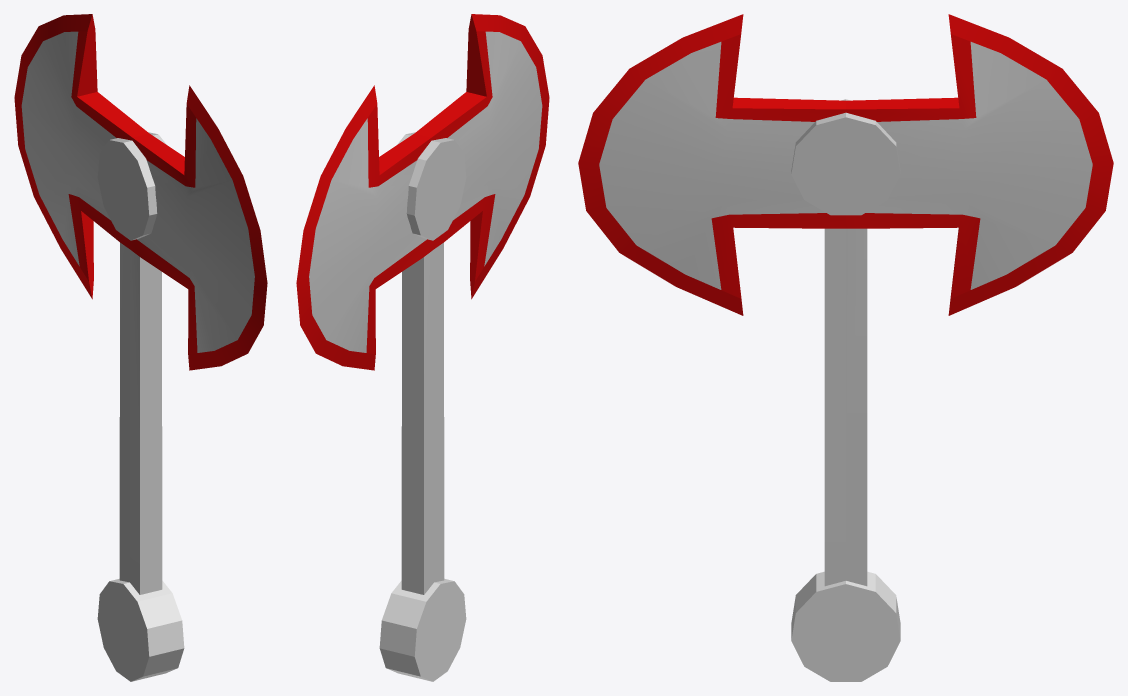
Rendered from FinalAxe.fbx.
3 renders of one model, left to right at view 1: azimuth 30°, elevation 25°; view 2: azimuth 150°, elevation 25°; view 3: azimuth 270°, elevation 25°, orthographic. The views are drawn at different scales.
Visible parts, largest first — view 1: Cube.003, Cylinder; view 2: Cube.003, Cylinder; view 3: Cube.003, Cylinder.
Part boxes in pixels (x1,y1,x2,y2): Cube.003: [14, 14, 267, 594]; Cylinder: [97, 578, 184, 681]; Cube.003: [296, 14, 549, 594]; Cylinder: [379, 578, 466, 681]; Cube.003: [578, 14, 1113, 586]; Cylinder: [791, 571, 900, 681].
Size of the model in its own units: 19.25 by 326 by 240.
